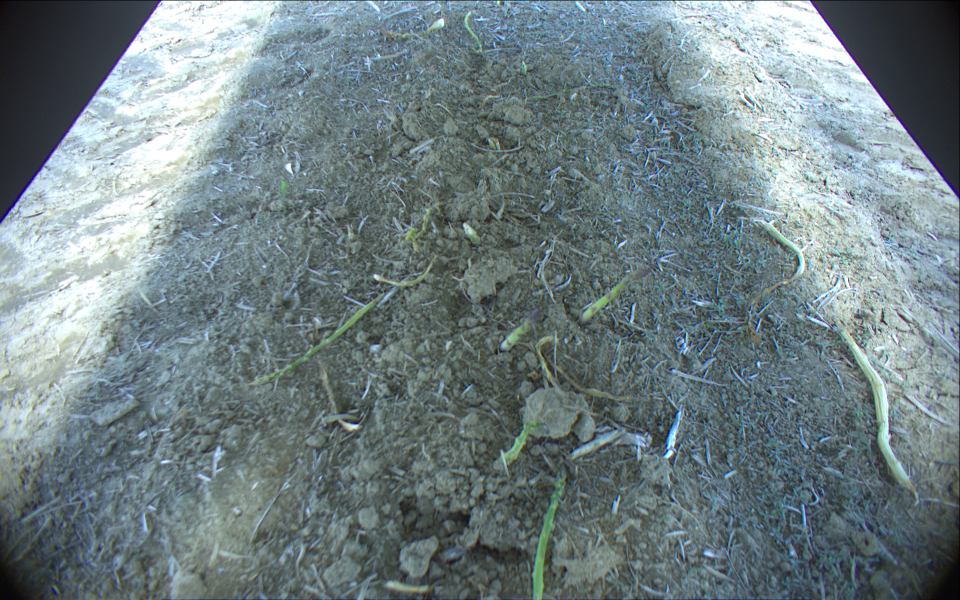aspa: (839, 322, 915, 495), (253, 294, 384, 385), (750, 219, 806, 318), (531, 464, 568, 600), (577, 271, 639, 326), (494, 419, 538, 469), (499, 308, 546, 350), (373, 256, 436, 287), (378, 19, 446, 40), (464, 11, 482, 51), (461, 222, 484, 246), (520, 61, 528, 75)
